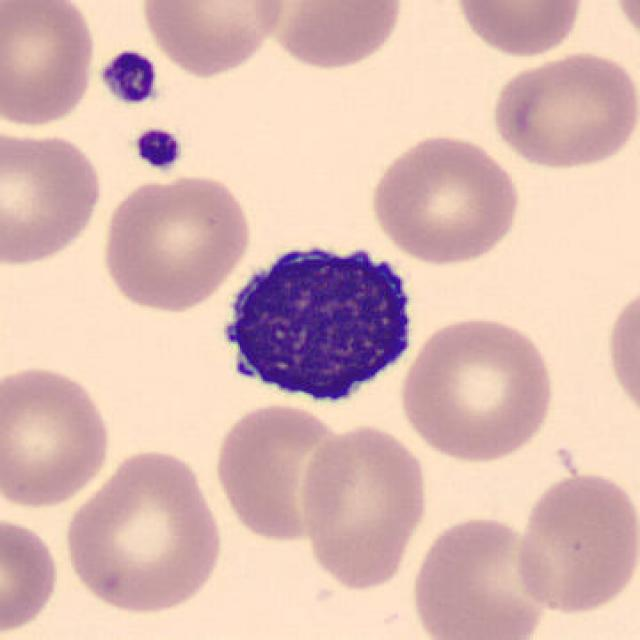Lymphocyte: (206, 224, 425, 418)
Platelets: (96, 48, 162, 108), (130, 125, 187, 173)
RBC: (59, 444, 228, 617), (396, 310, 560, 466), (295, 420, 432, 592), (96, 169, 256, 316), (366, 129, 523, 268), (210, 398, 354, 545), (510, 467, 638, 617), (407, 511, 555, 640), (487, 48, 638, 172), (0, 360, 116, 511), (0, 125, 105, 268), (0, 0, 99, 130), (137, 0, 290, 78), (258, 0, 409, 72), (0, 512, 64, 638), (452, 0, 586, 60), (602, 276, 640, 430), (608, 0, 640, 55)
